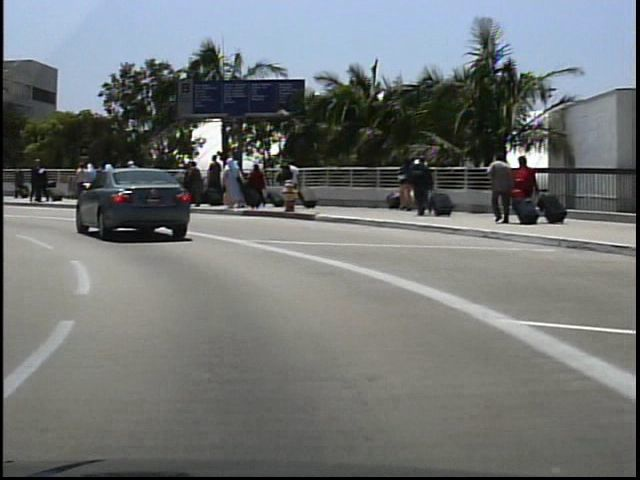person: (483, 151, 512, 224), (508, 155, 537, 224), (402, 154, 433, 218), (32, 158, 55, 209), (282, 156, 304, 206), (27, 157, 46, 202), (11, 164, 28, 202)
